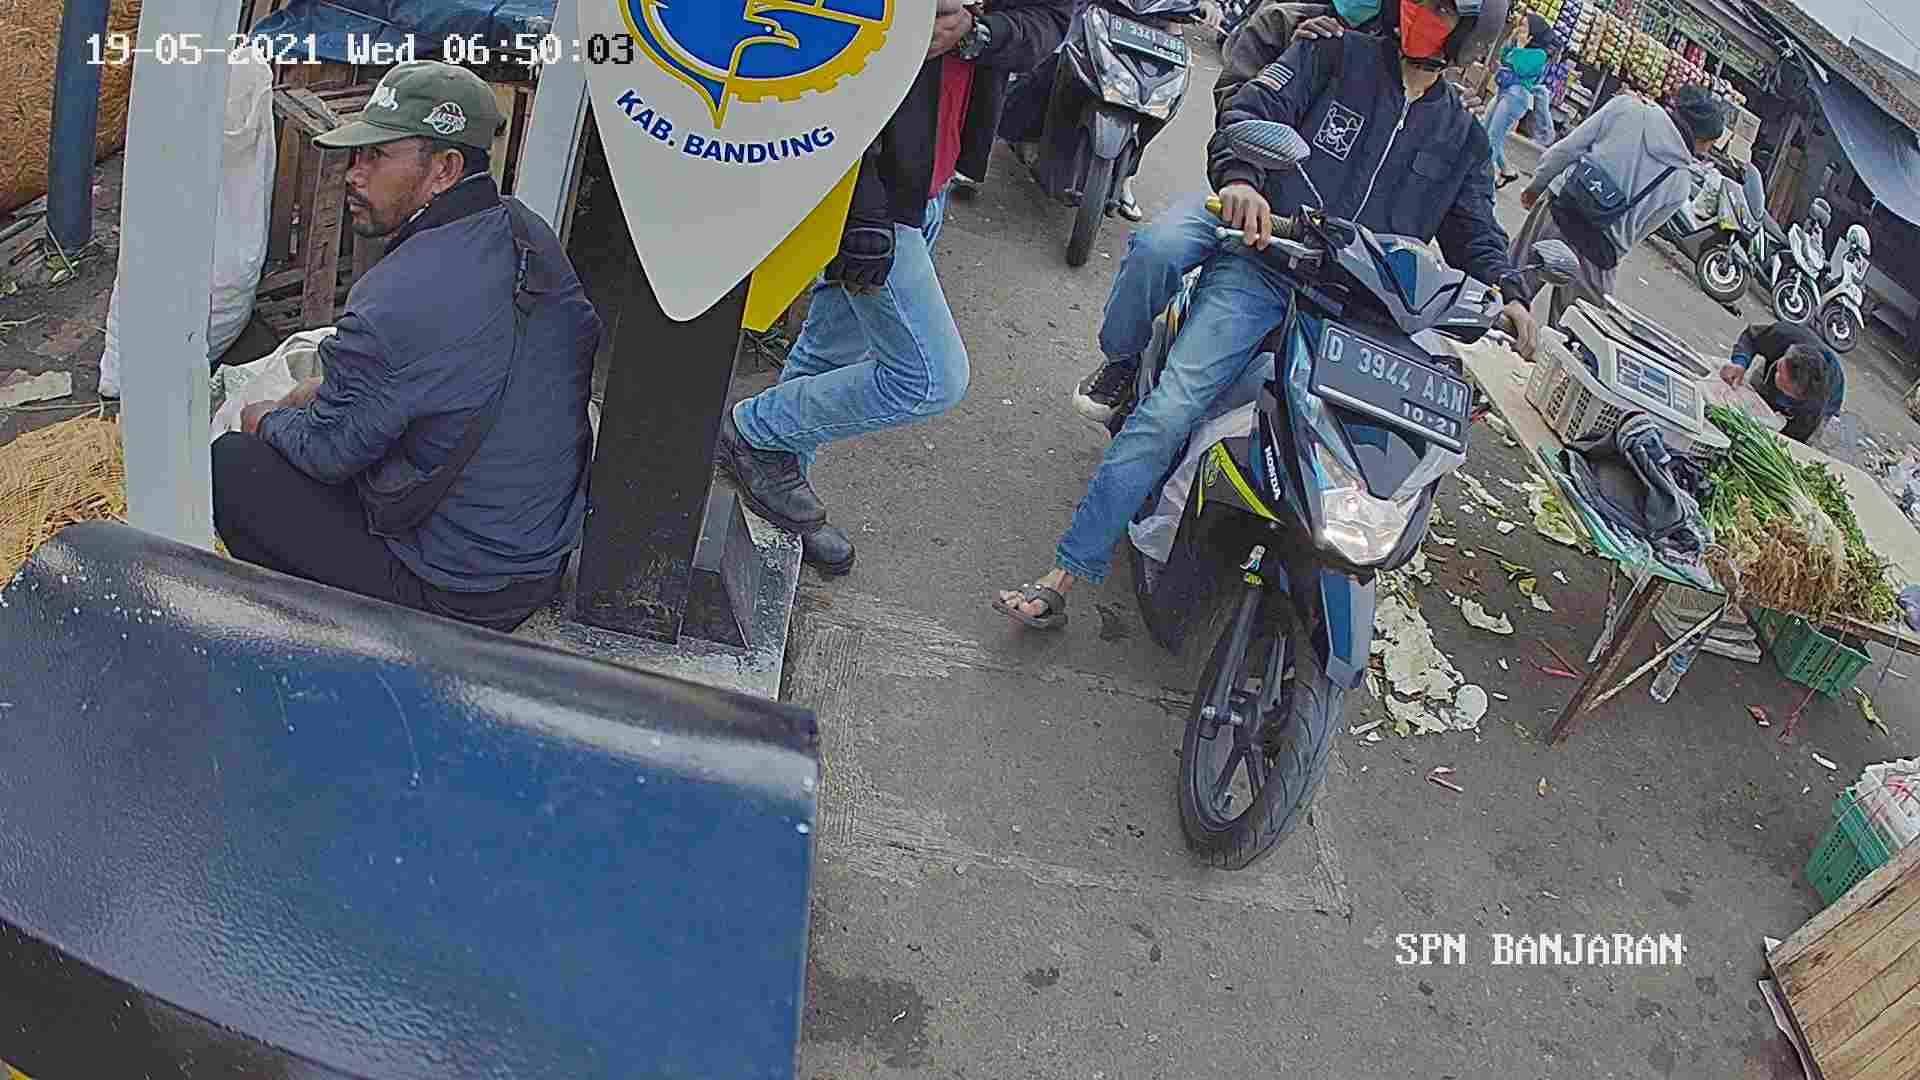motor: (1149, 207, 1468, 853)
